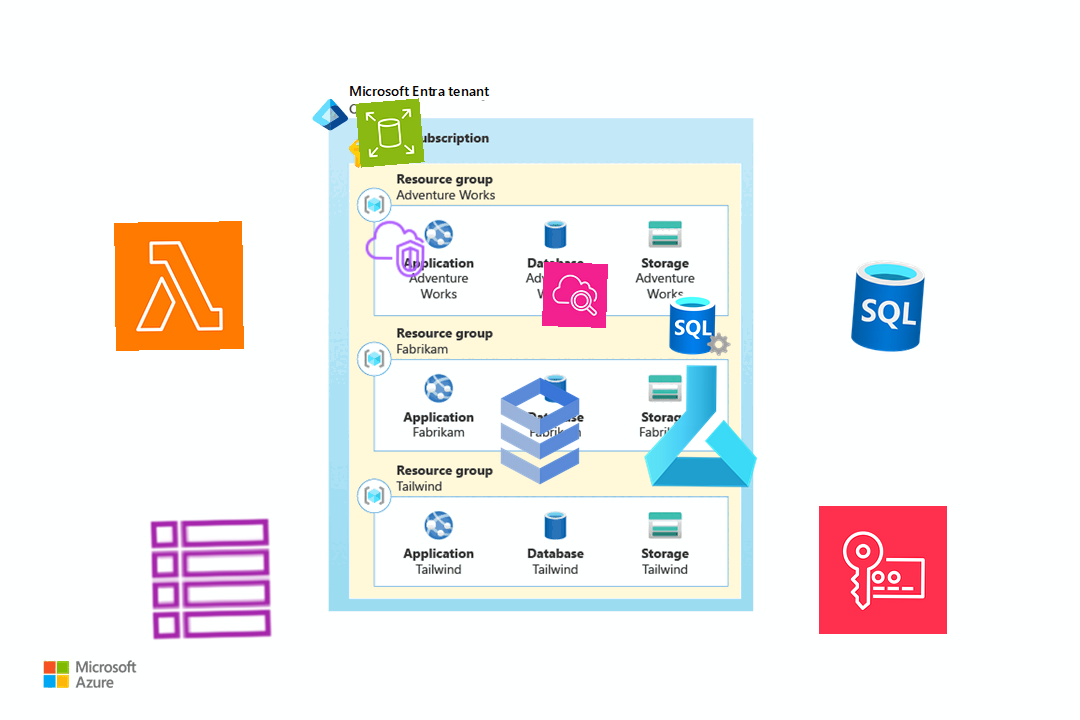aws_amazon_cloudwatch: (542, 262, 608, 328)
aws_amazon_elastic_block_store: (355, 98, 425, 168)
aws_dynamodb_table: (145, 513, 277, 645)
aws_key_management_service: (818, 505, 948, 635)
aws_lambda: (114, 221, 244, 351)
aws_vpc_virtual_private_cloud_vpc: (362, 216, 428, 282)
azure_machine_learning: (636, 361, 766, 491)
azure_sql_database: (836, 254, 940, 358)
azure_sql_server: (667, 292, 733, 358)
gcp_cloud_sql: (475, 366, 605, 496)
